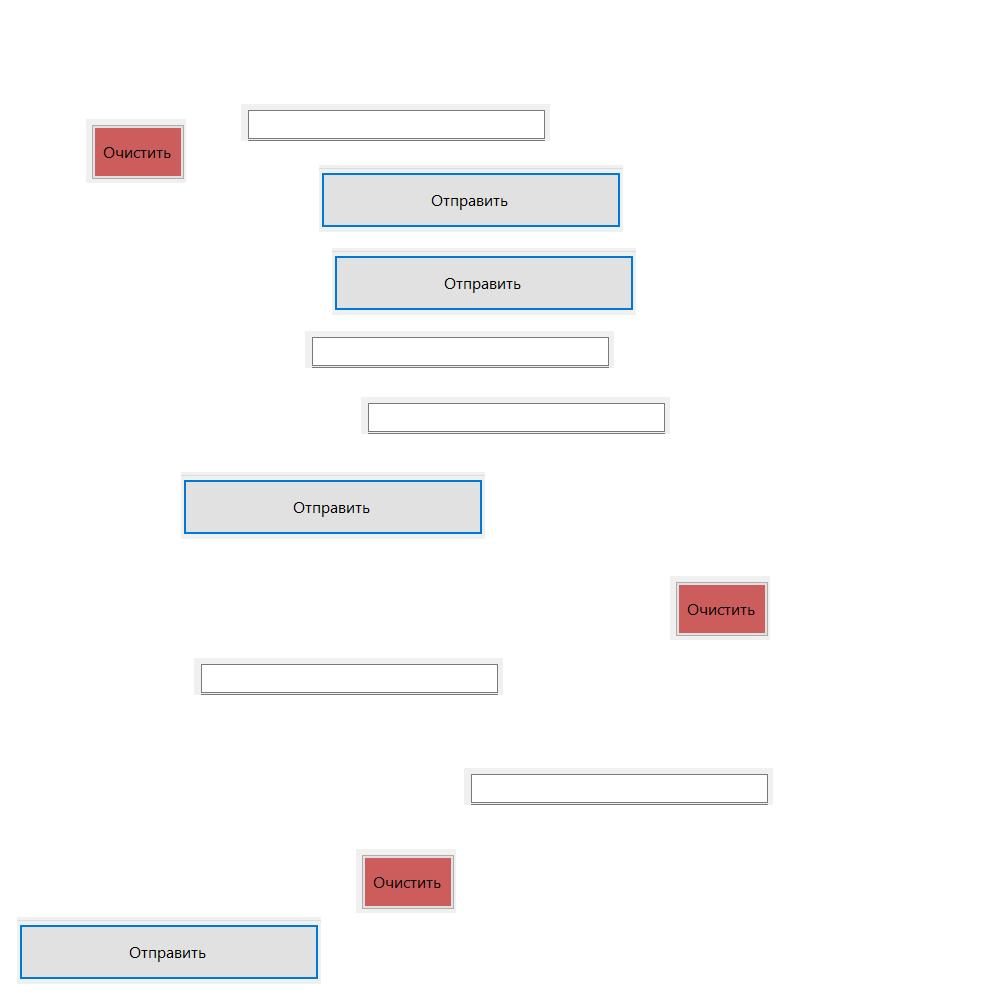Button: (332, 248, 636, 315), (181, 472, 485, 539), (319, 165, 623, 232), (17, 917, 321, 984), (356, 849, 456, 913), (86, 119, 186, 183), (670, 576, 770, 640)
EditText-: (194, 658, 503, 695), (241, 104, 550, 141), (464, 768, 773, 805), (305, 331, 614, 368), (361, 397, 670, 434)
